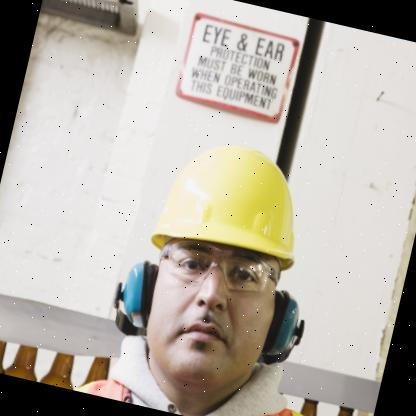capacete: (138, 122, 326, 282)
oculos: (163, 236, 275, 298)
